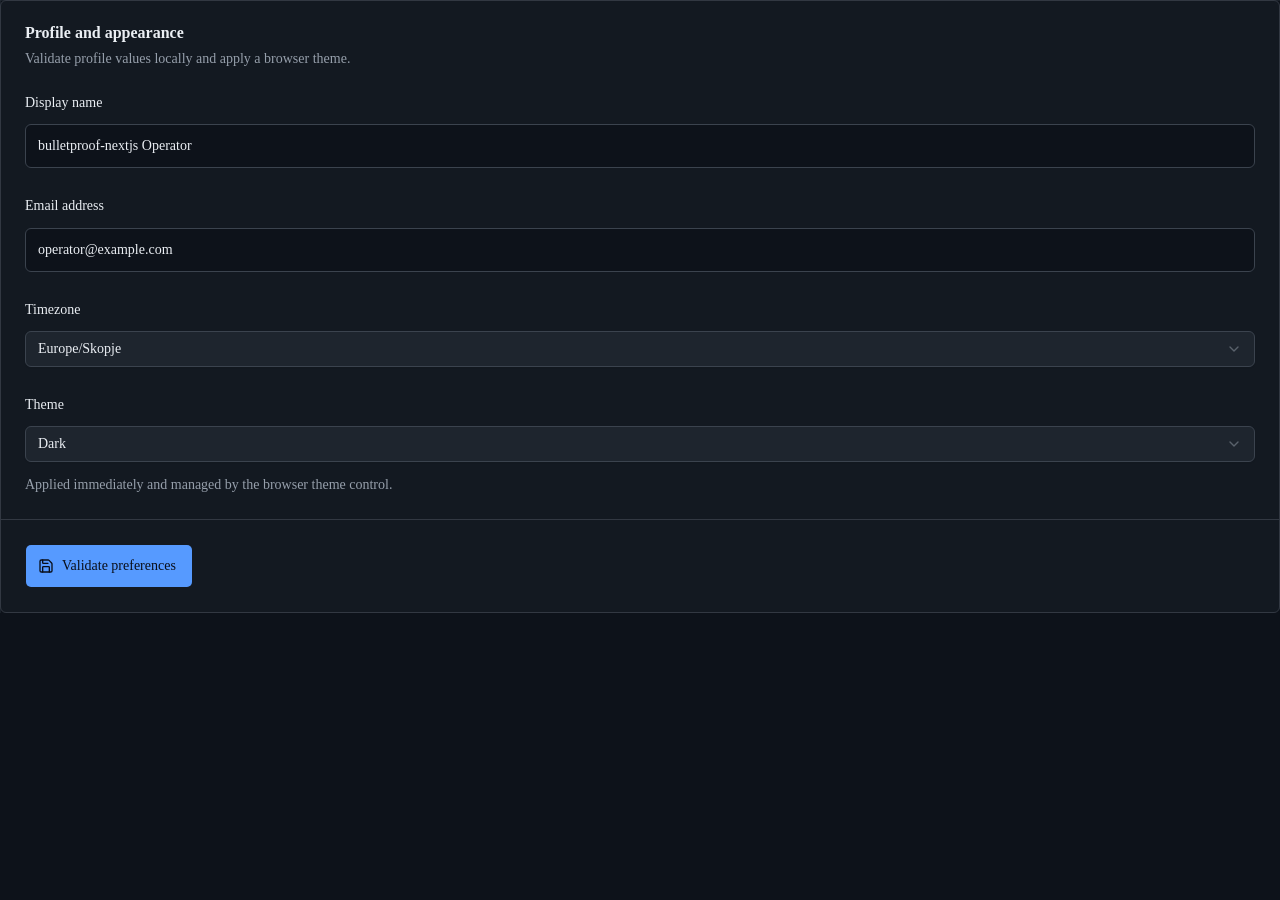
SettingsForm › clears success state after select values change
Click the button "Validate preferences".
click(109, 566)  # box [25,544,193,588]
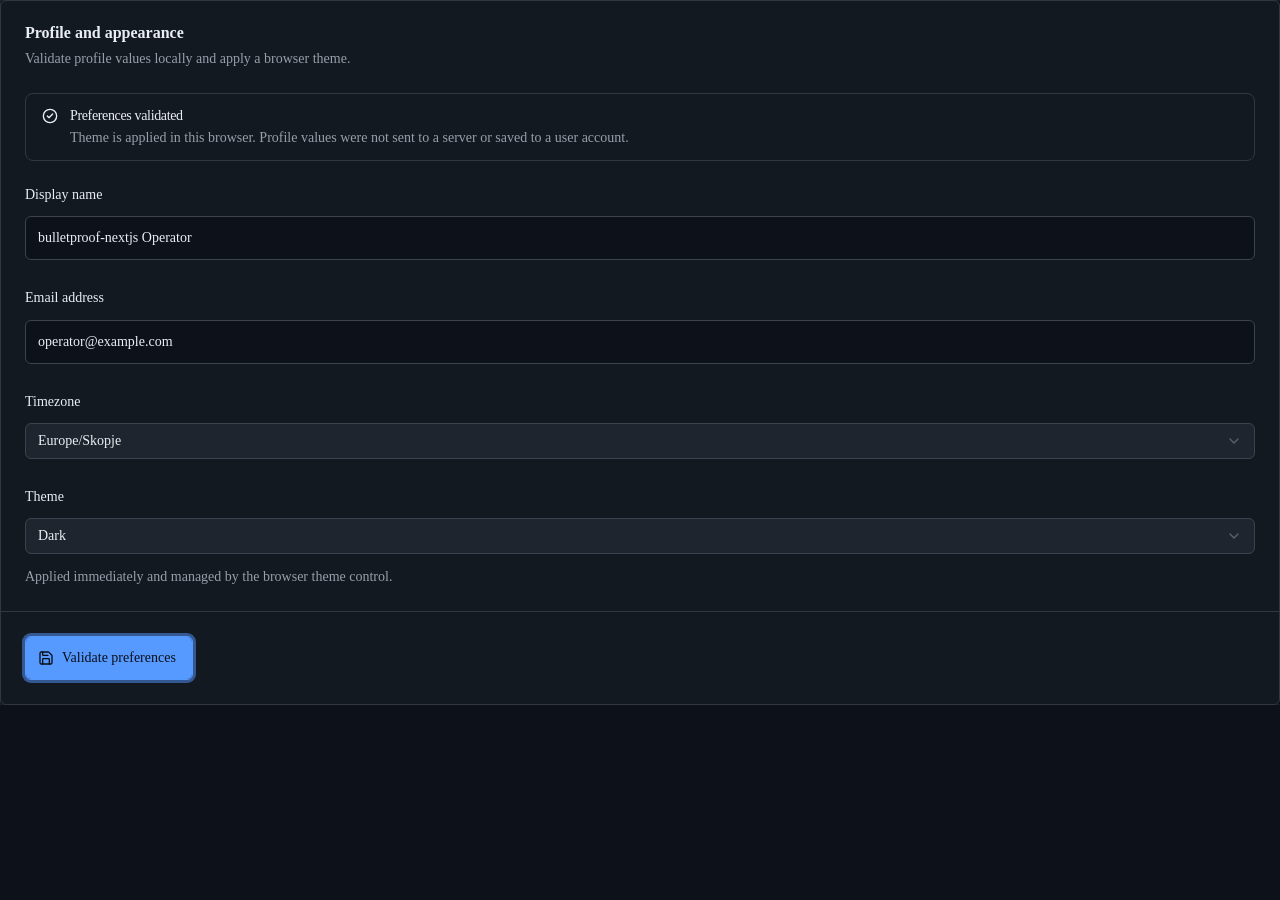
expect the message shows "Preferences validated": met, box [70,108,183,123]
Click the dropdown named "Timezone".
click(80, 440)  # box [25,423,1255,459]
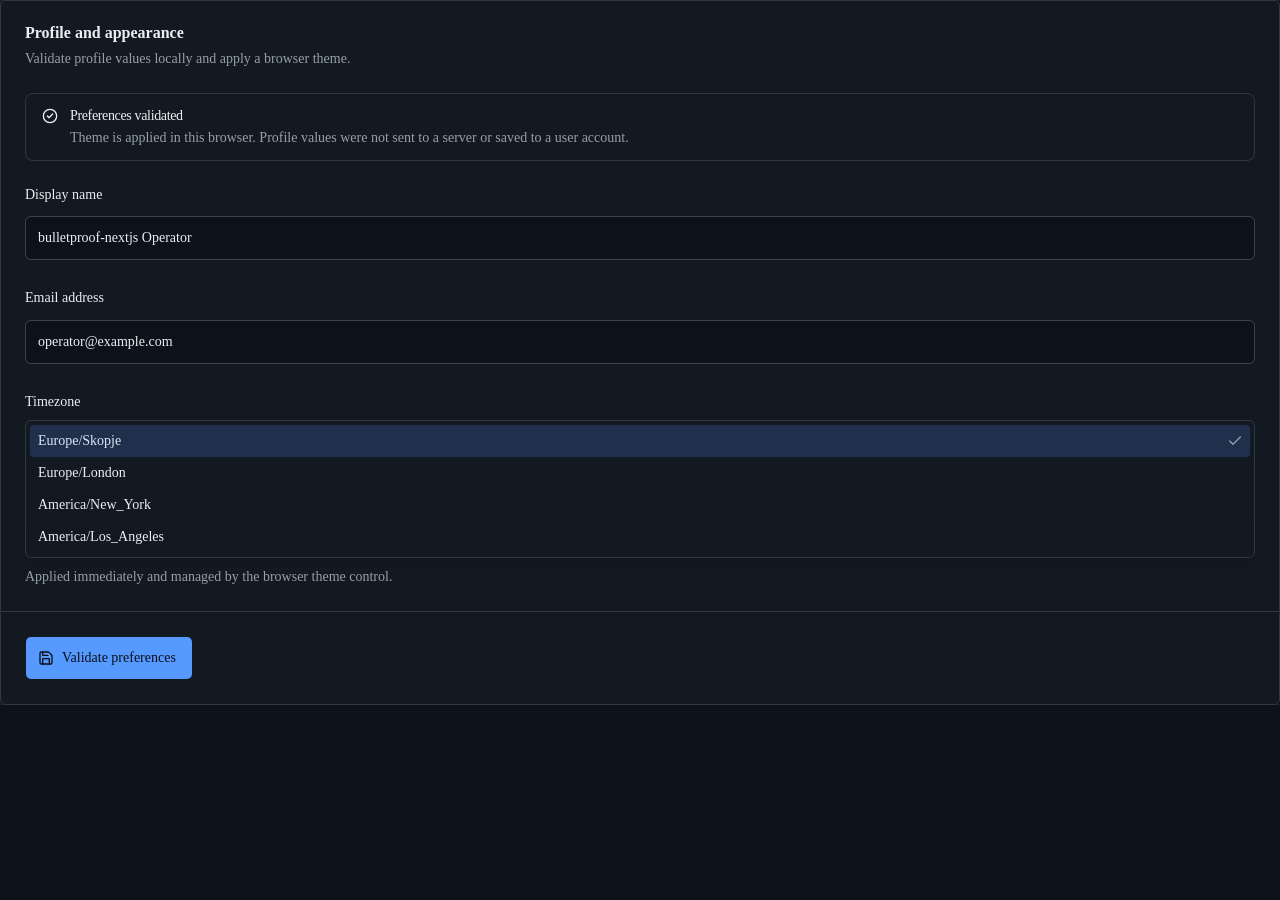
Click the option "Europe/London".
click(82, 472)  # box [38,465,126,480]
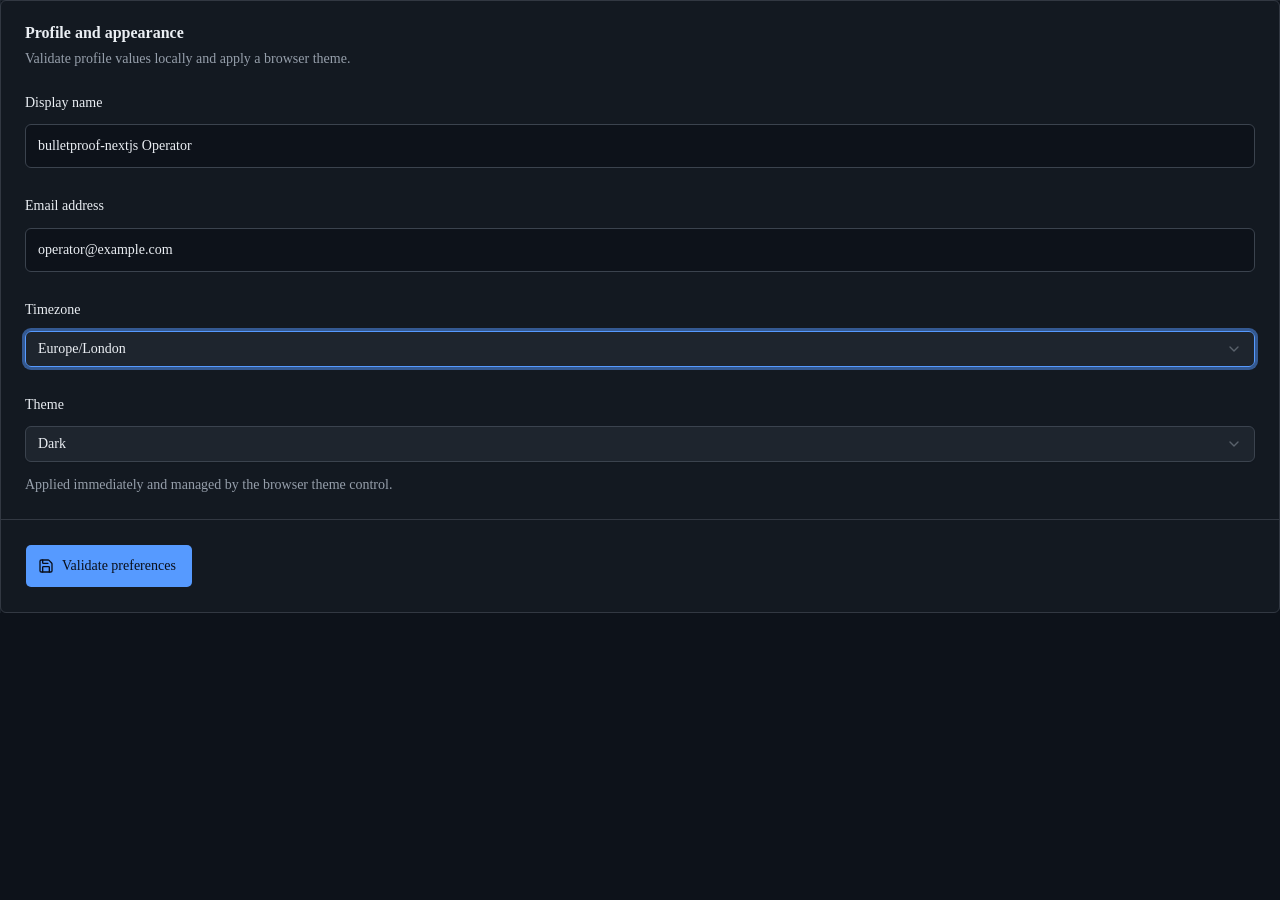
expect the message "Preferences validated Theme is applied in this browser. Profile values were not" is gone: met
